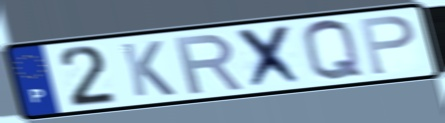2: (58, 44, 120, 109)
K: (118, 39, 178, 99)
P: (356, 13, 417, 77)
Q: (299, 18, 368, 84)
R: (171, 32, 247, 97)
X: (233, 22, 309, 92)
